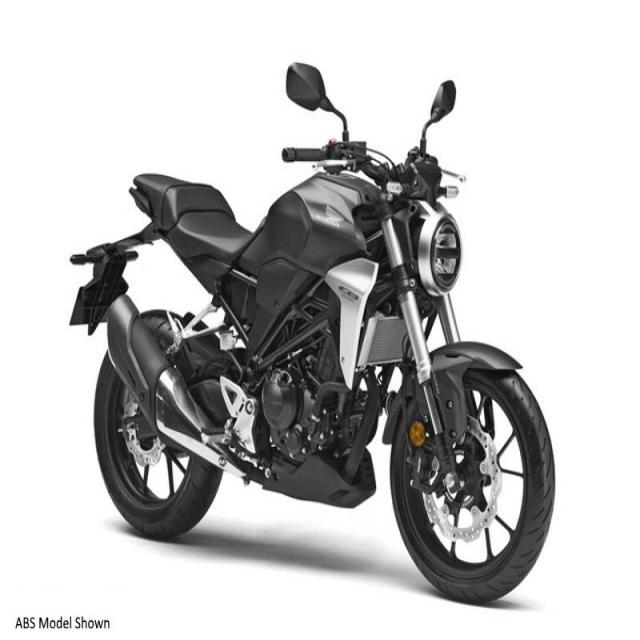Motorcycle: (70, 62, 557, 604)
